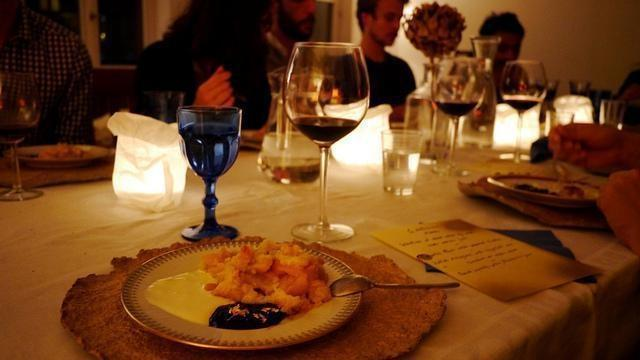glass-normal: (381, 128, 422, 194)
glass-wine: (286, 40, 369, 241), (176, 104, 241, 240), (431, 56, 481, 177), (1, 72, 43, 201), (500, 60, 547, 167)
